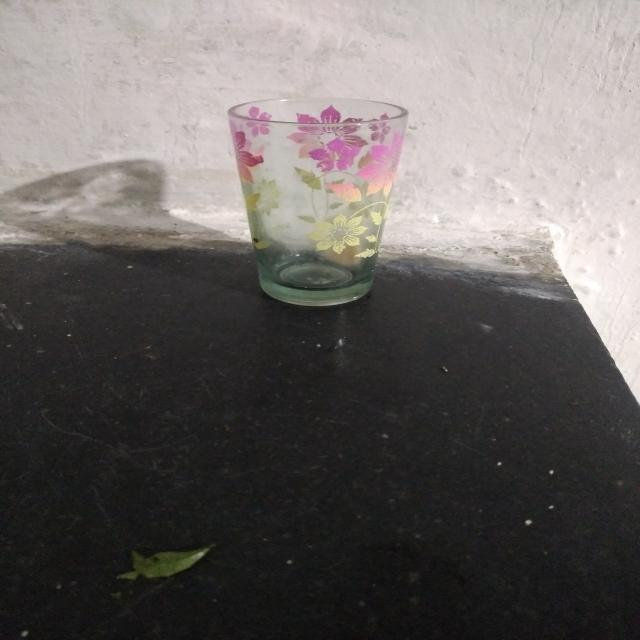Glass: (225, 93, 411, 310)
